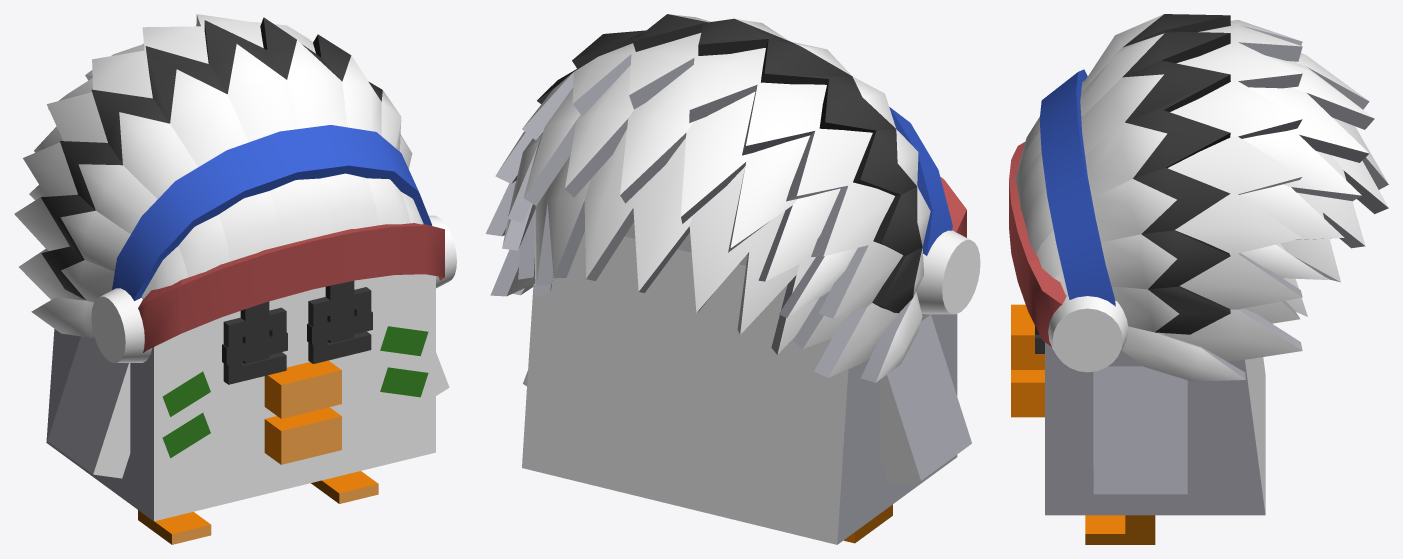
3 views of the same model, side by side, from view 1: azimuth 30°, elevation 25°; view 2: azimuth 150°, elevation 25°; view 3: azimuth 270°, elevation 25° (orthographic). The views are drawn at different scales.
Parts seen in each view (by area): view 1: Ch_03, Ch_03_Wing_L, Ch_03_Eye_03_R, Ch_03_Eye_03_L, Ch_03_Leg_L, Ch_03_Leg_R; view 2: Ch_03, Ch_03_Wing_L; view 3: Ch_03, Ch_03_Wing_R, Ch_03_Leg_R.
Part boxes in pixels (x1,y1,x2,y2): Ch_03: (14,14,456,521); Ch_03_Wing_L: (47,336,130,478); Ch_03_Eye_03_R: (308,287,371,363); Ch_03_Eye_03_L: (223,307,286,384); Ch_03_Leg_L: (138,510,211,544); Ch_03_Leg_R: (311,471,378,503); Ch_03: (485,14,980,544); Ch_03_Wing_L: (879,315,971,485); Ch_03: (1009,14,1388,515); Ch_03_Wing_R: (1093,366,1187,494); Ch_03_Leg_R: (1085,515,1155,544).
Size of the model in its own units: 10.27 by 12.34 by 9.23.
